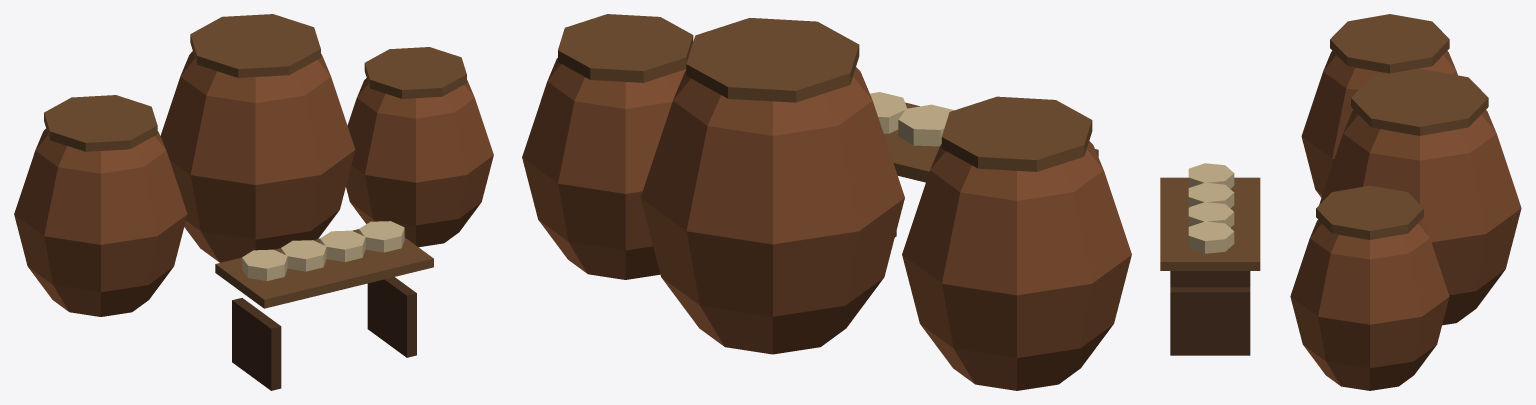
Rendered from sanseong_sul_vat.glb.
3 views of the same model, side by side, from view 1: azimuth 30°, elevation 25°; view 2: azimuth 150°, elevation 25°; view 3: azimuth 270°, elevation 25° (orthographic). The views are drawn at different scales.
Visible parts, largest first — view 1: sanseong_sul_vat; view 2: sanseong_sul_vat; view 3: sanseong_sul_vat.
Boxes of the visible parts, <box> form: sanseong_sul_vat: <box>14,14,493,390</box>; sanseong_sul_vat: <box>522,14,1131,390</box>; sanseong_sul_vat: <box>1160,14,1521,390</box>.
Size of the model in its own units: 2.63 by 1.32 by 1.81.
